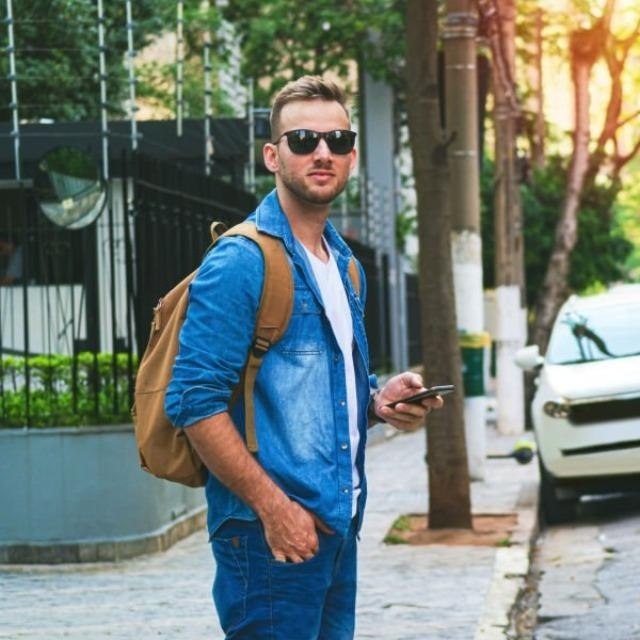Sin_Casco_Mascarrilla: (263, 78, 361, 208)
Sin_Chaleco: (200, 219, 375, 539)
